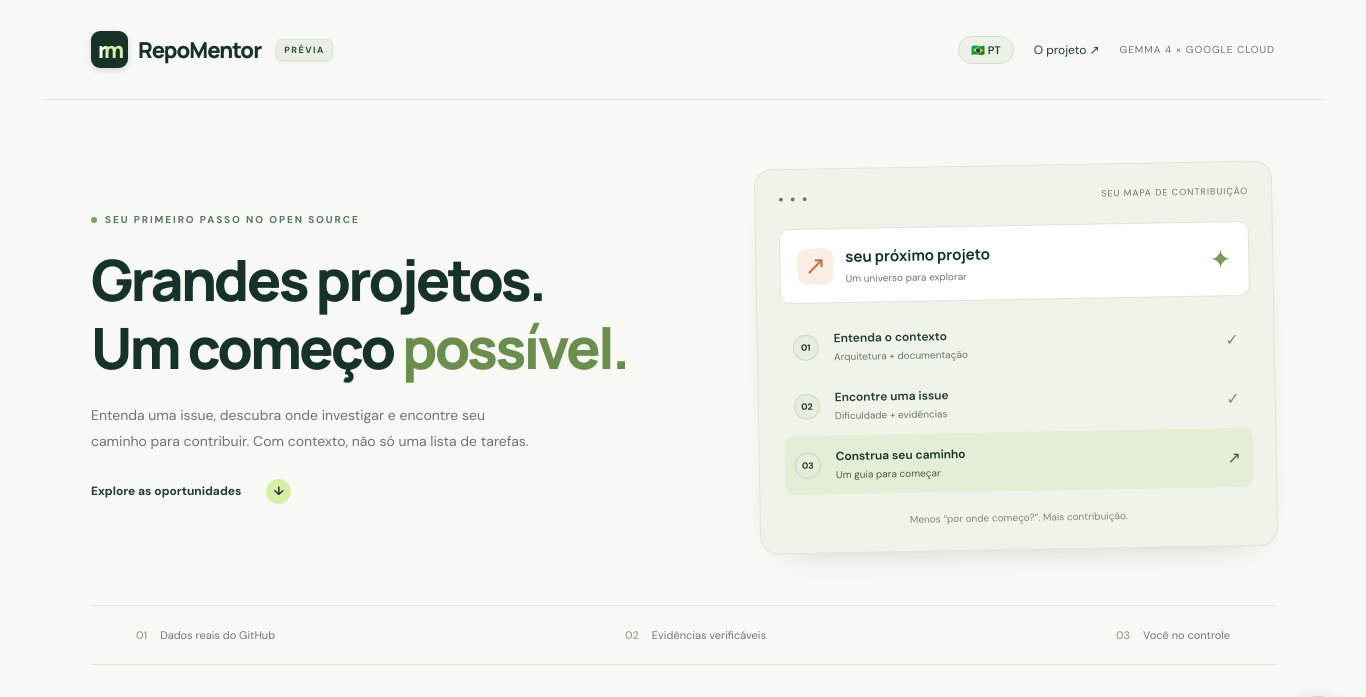
Scenario: RepoMentor flow › toggles language between Portuguese and English and persists to localStorage
This screenshot has width=1366, height=697.
Check: the text "SEU PRIMEIRO PASSO NO OPEN SOURCE" is shown, box [91,213,360,226]
Click to switch to English
Click the button with aria-label "Alternar idioma português/inglês" at (986, 50), box [958,36,1014,64]
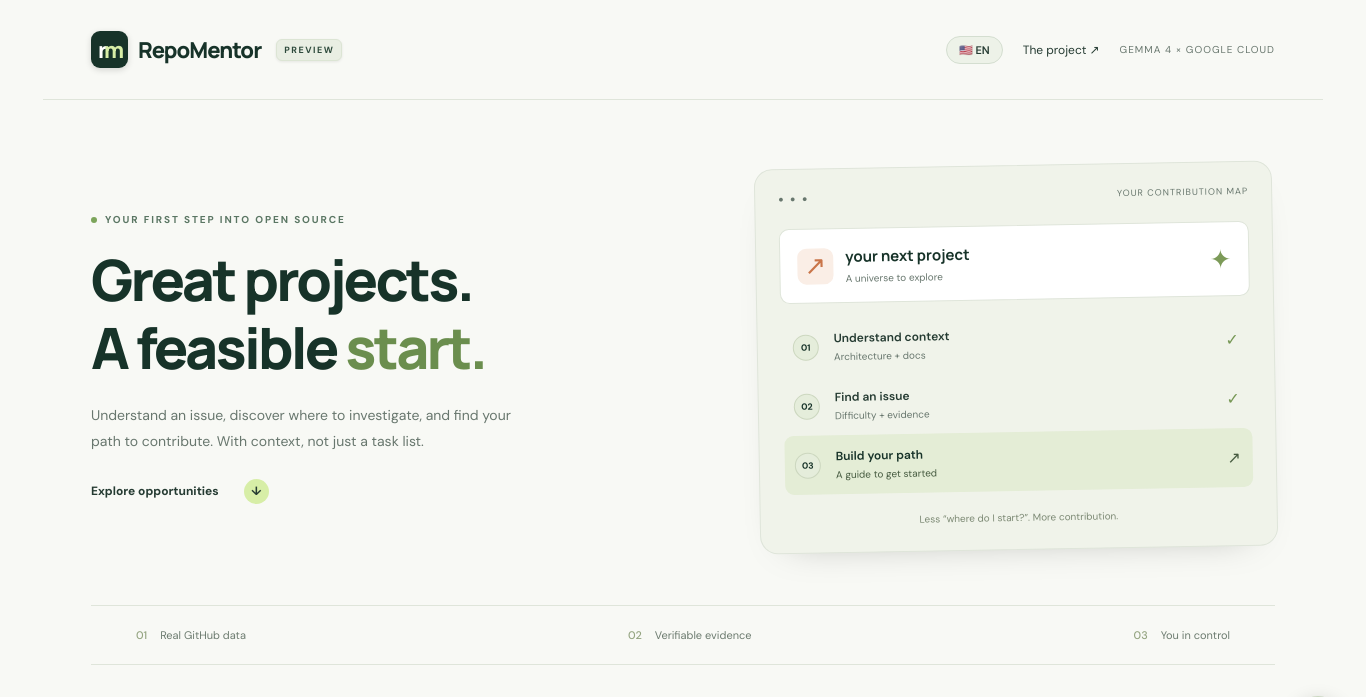
Check: the text "YOUR FIRST STEP INTO OPEN SOURCE" is shown, box [91,213,346,226]
Click to switch back to Portuguese
Click the button named "Alternar idioma português/inglês" at (974, 50), box [946,36,1003,64]
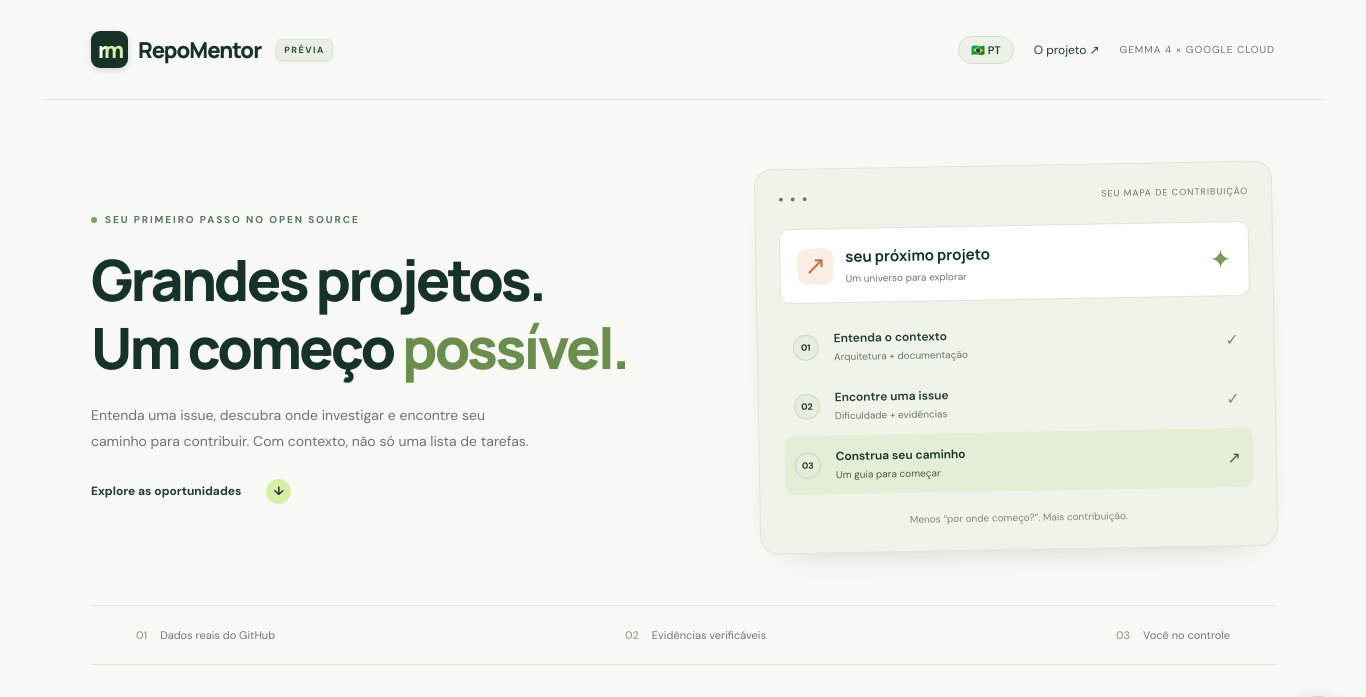
Check: the text "SEU PRIMEIRO PASSO NO OPEN SOURCE" is shown, box [91,213,360,226]
